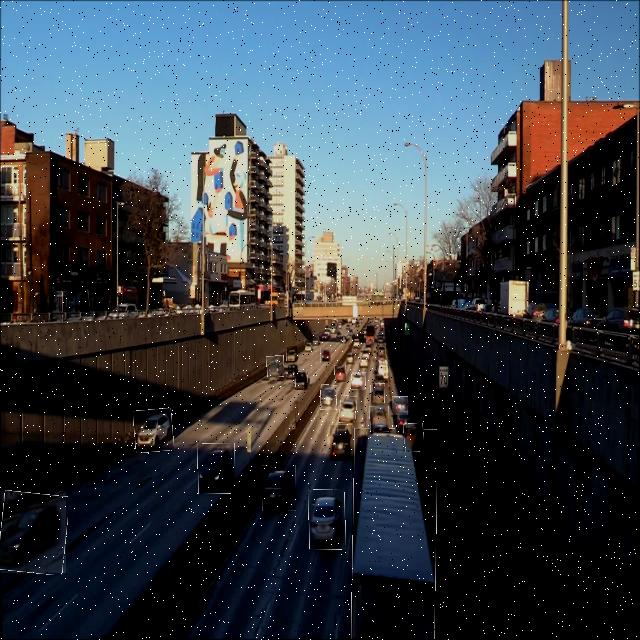Car: (0, 491, 66, 573), (308, 490, 346, 550), (198, 444, 235, 494), (134, 409, 174, 452), (262, 465, 296, 511), (330, 424, 352, 461), (403, 424, 424, 452), (370, 406, 389, 432), (339, 396, 357, 423), (320, 385, 337, 410), (267, 356, 284, 377), (370, 383, 385, 404), (392, 396, 408, 415), (352, 372, 366, 390), (296, 371, 308, 390), (286, 361, 298, 379), (335, 365, 346, 383), (286, 346, 297, 362), (320, 349, 331, 363), (304, 340, 312, 354)
Truck: (352, 428, 436, 640)
